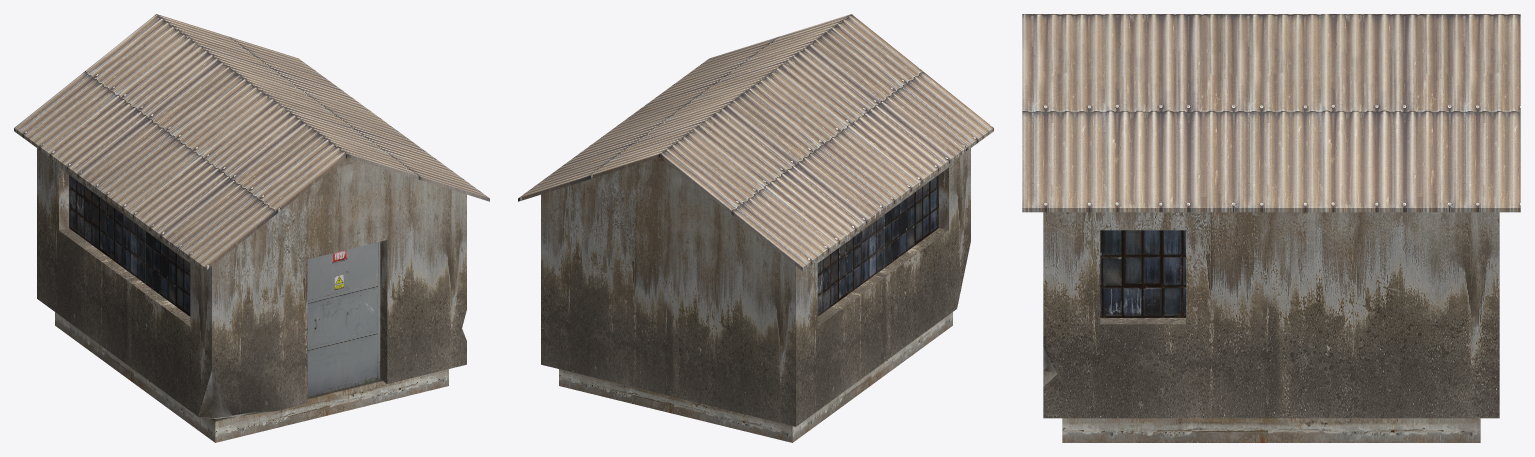
The model's file is ind4_smallhouse_lod.fbx.
3 views of the same model, side by side, from view 1: azimuth 30°, elevation 25°; view 2: azimuth 150°, elevation 25°; view 3: azimuth 270°, elevation 25° (orthographic). The views are drawn at different scales.
Parts seen in each view (by area): view 1: Mesh Object; view 2: Mesh Object; view 3: Mesh Object.
Boxes of the visible parts, bbox=[...] form: Mesh Object: bbox=[14, 14, 489, 442]; Mesh Object: bbox=[518, 14, 993, 442]; Mesh Object: bbox=[1022, 14, 1520, 442].
Bounding box in the file's own units: 6.44 × 5.88 × 7.49.
